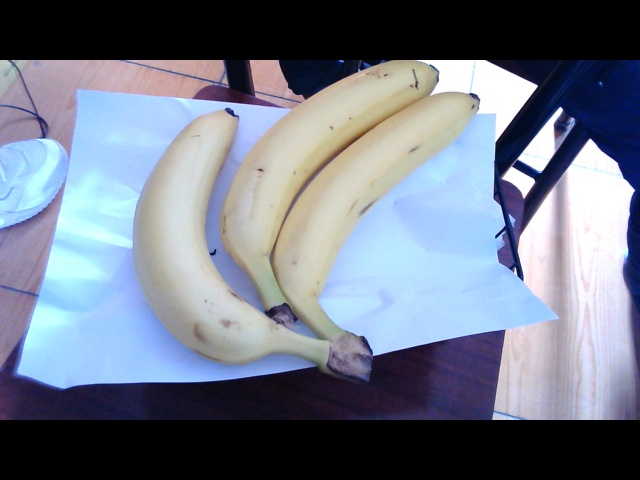banana: (143, 67, 446, 380)
